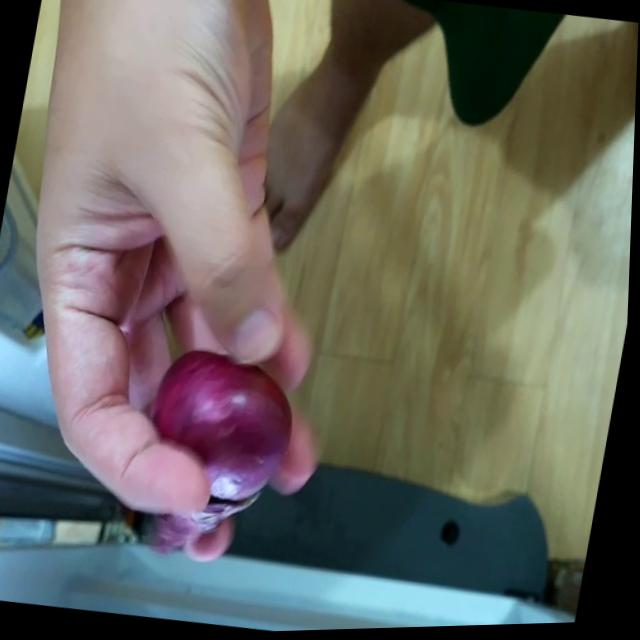onion: (142, 345, 309, 528)
